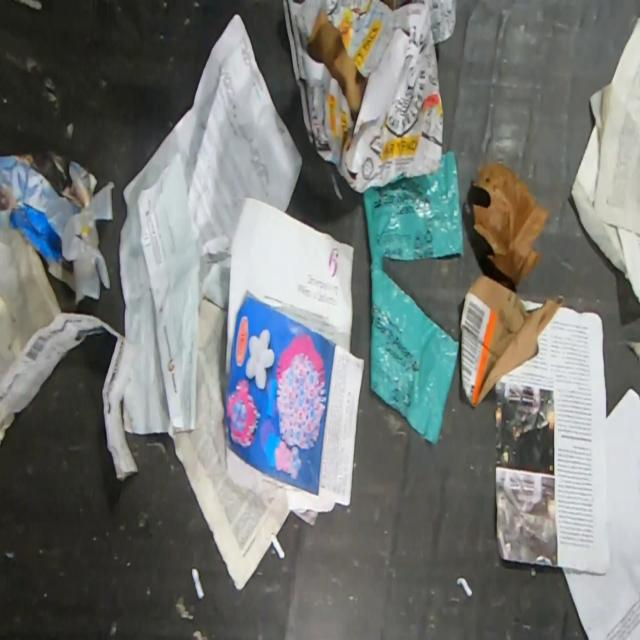cardboard: (282, 0, 458, 195), (0, 150, 97, 292), (460, 273, 563, 406)
soft_plastic: (363, 151, 463, 445), (60, 180, 116, 303)
